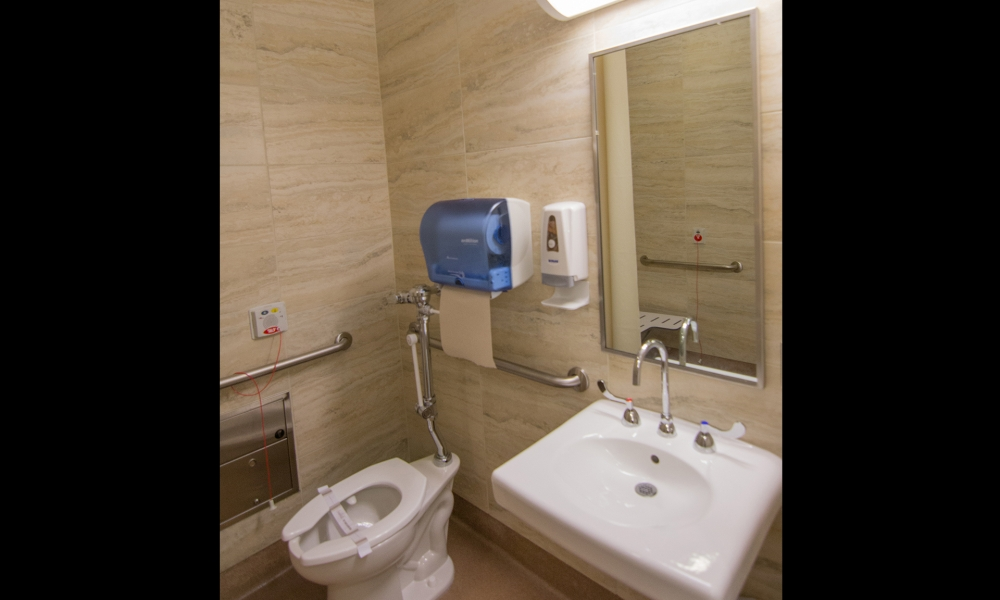dispenser: (419, 198, 534, 369), (538, 201, 590, 311)
faucet: (597, 337, 745, 453)
restroom_assist_bar: (408, 322, 590, 393), (220, 331, 353, 397), (641, 250, 743, 291)
sink: (490, 400, 783, 600)
toilet: (282, 452, 460, 600)
